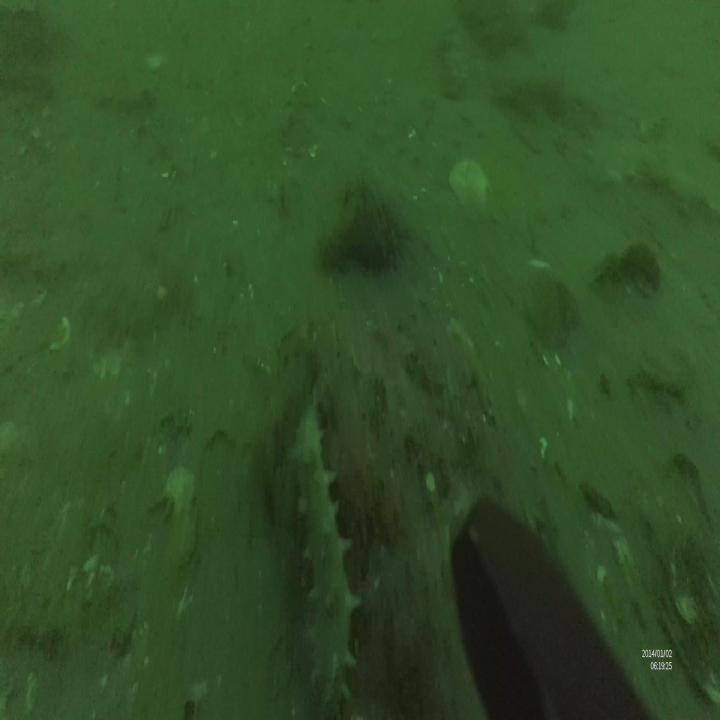holothurian: (291, 402, 359, 718)
